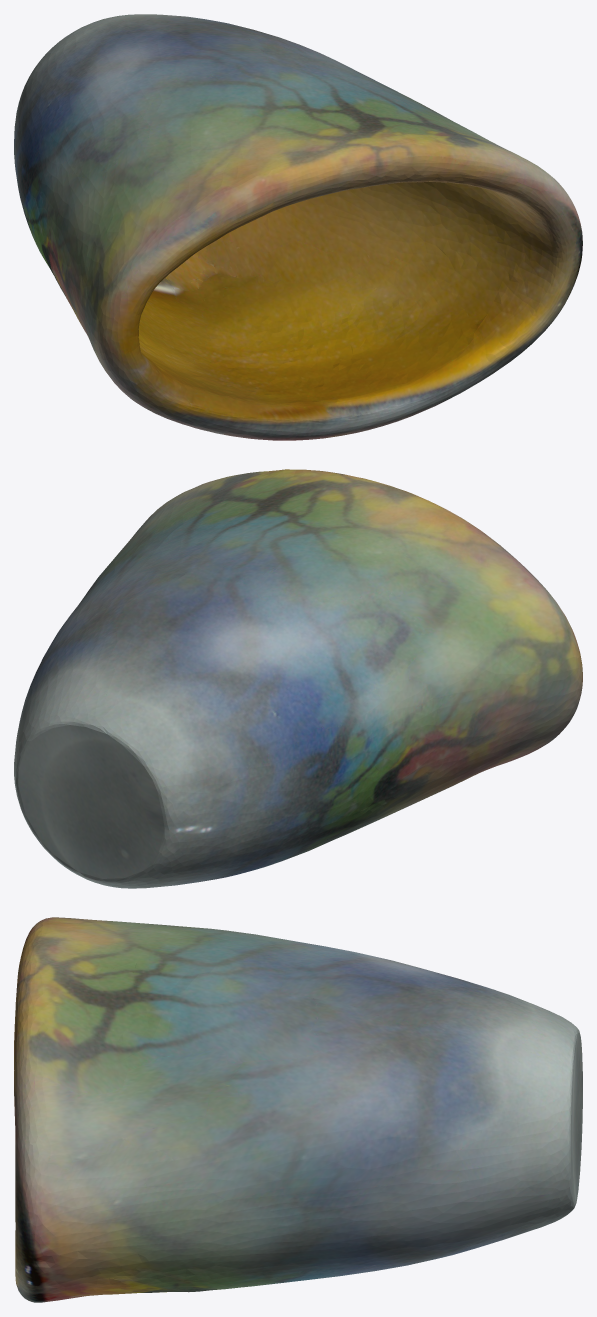
3 renders of one model, top to bottom at view 1: azimuth 30°, elevation 25°; view 2: azimuth 150°, elevation 25°; view 3: azimuth 270°, elevation 25°, orthographic. The views are drawn at different scales.
Visible parts, largest first — view 1: model.obj; view 2: model.obj; view 3: model.obj.
Boxes of the visible parts, <box> form: model.obj: <box>14,14,582,440</box>; model.obj: <box>14,469,582,888</box>; model.obj: <box>14,917,582,1302</box>.
Bounding box in the file's own units: 0.9903 × 0.578 × 1.
1 material, 1 textured.
